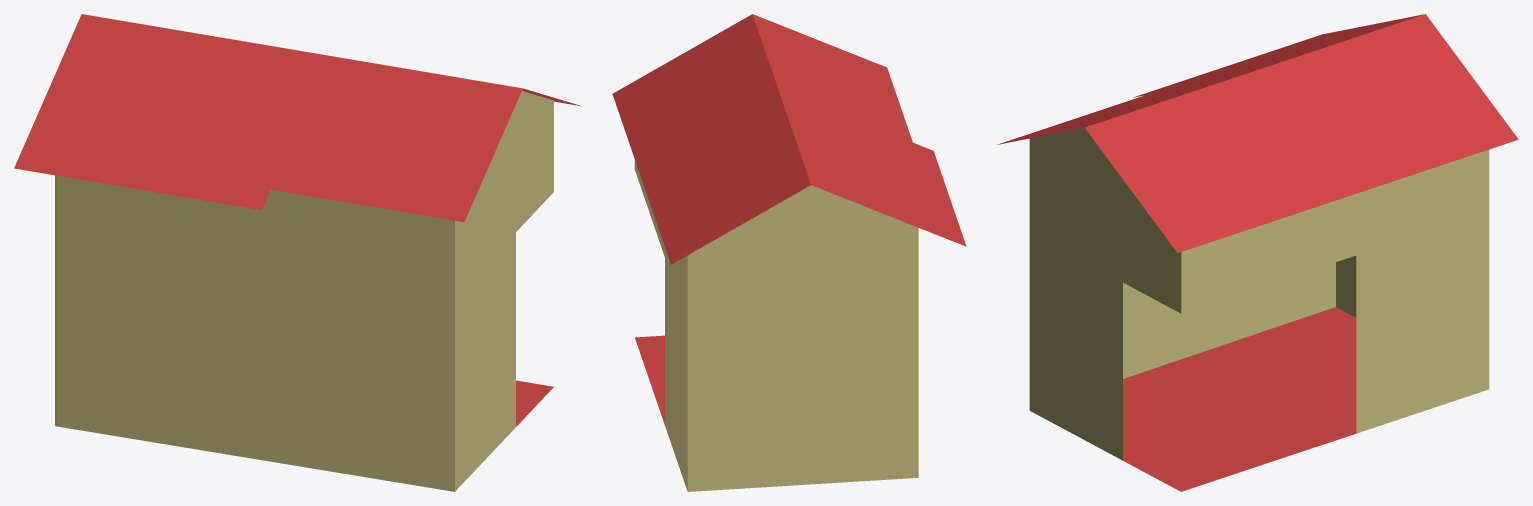
3 views of the same model, side by side, from view 1: azimuth 30°, elevation 25°; view 2: azimuth 150°, elevation 25°; view 3: azimuth 270°, elevation 25° (orthographic). The views are drawn at different scales.
Size of the model in its own units: 18.51 by 18.72 by 12.89.
